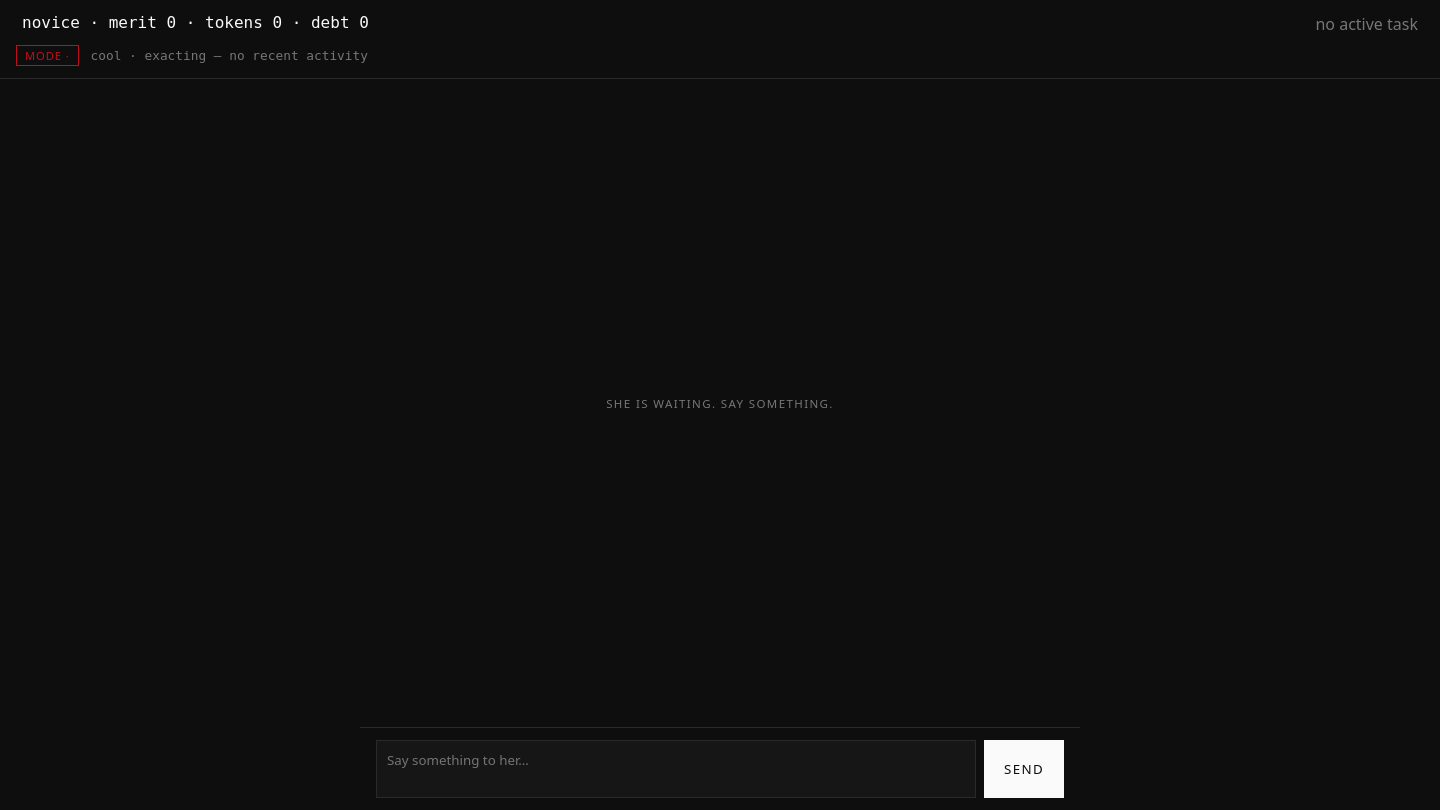
Test: online: shows the dossier and sends a message
expect the text "cool · exacting — no recent activity" is shown: met, box [91, 48, 368, 63]
Type "what now?" into the text box with placeholder "Say something to her…" at (676, 769), box [376, 740, 976, 798]
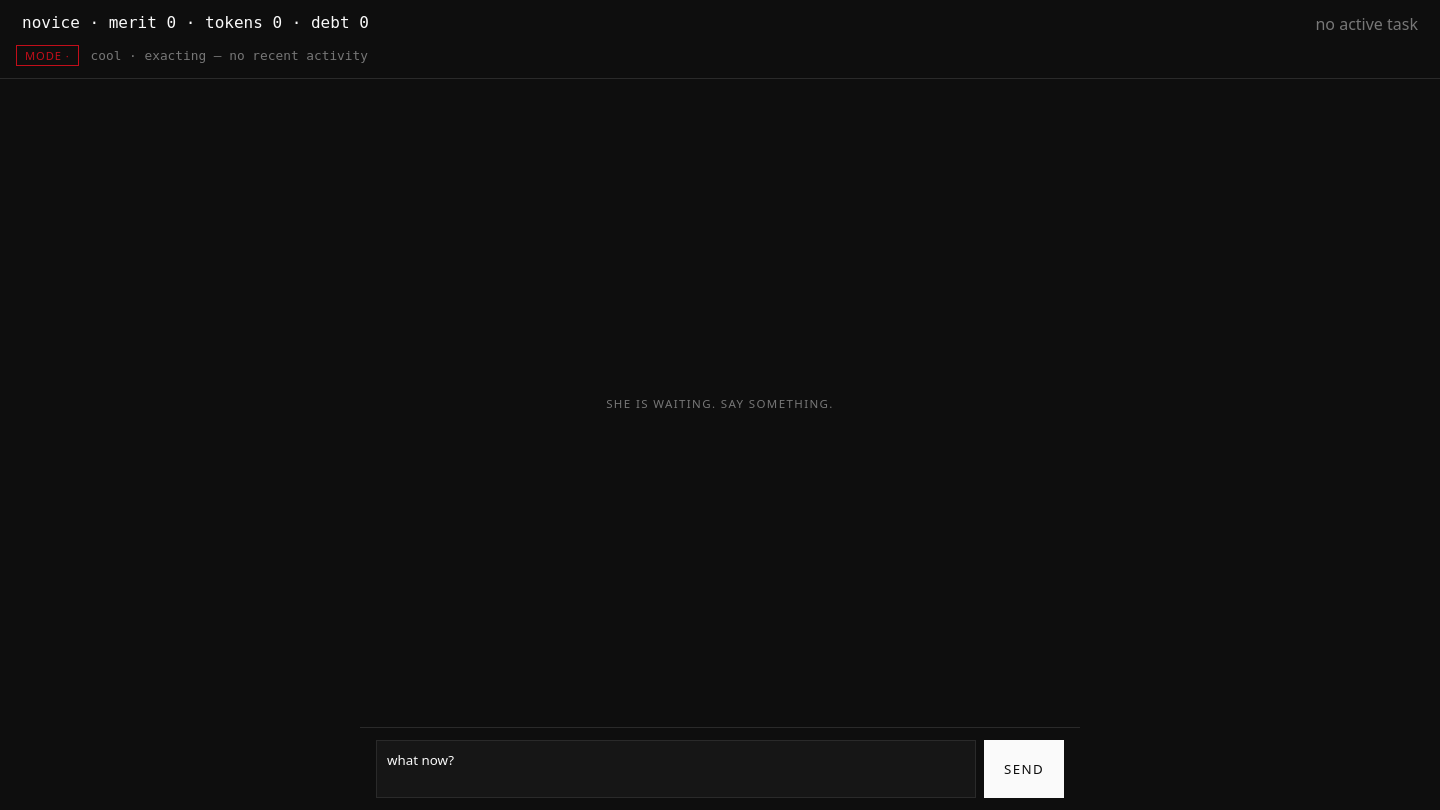
Click the button "Send" at (1024, 769), box [984, 740, 1064, 798]
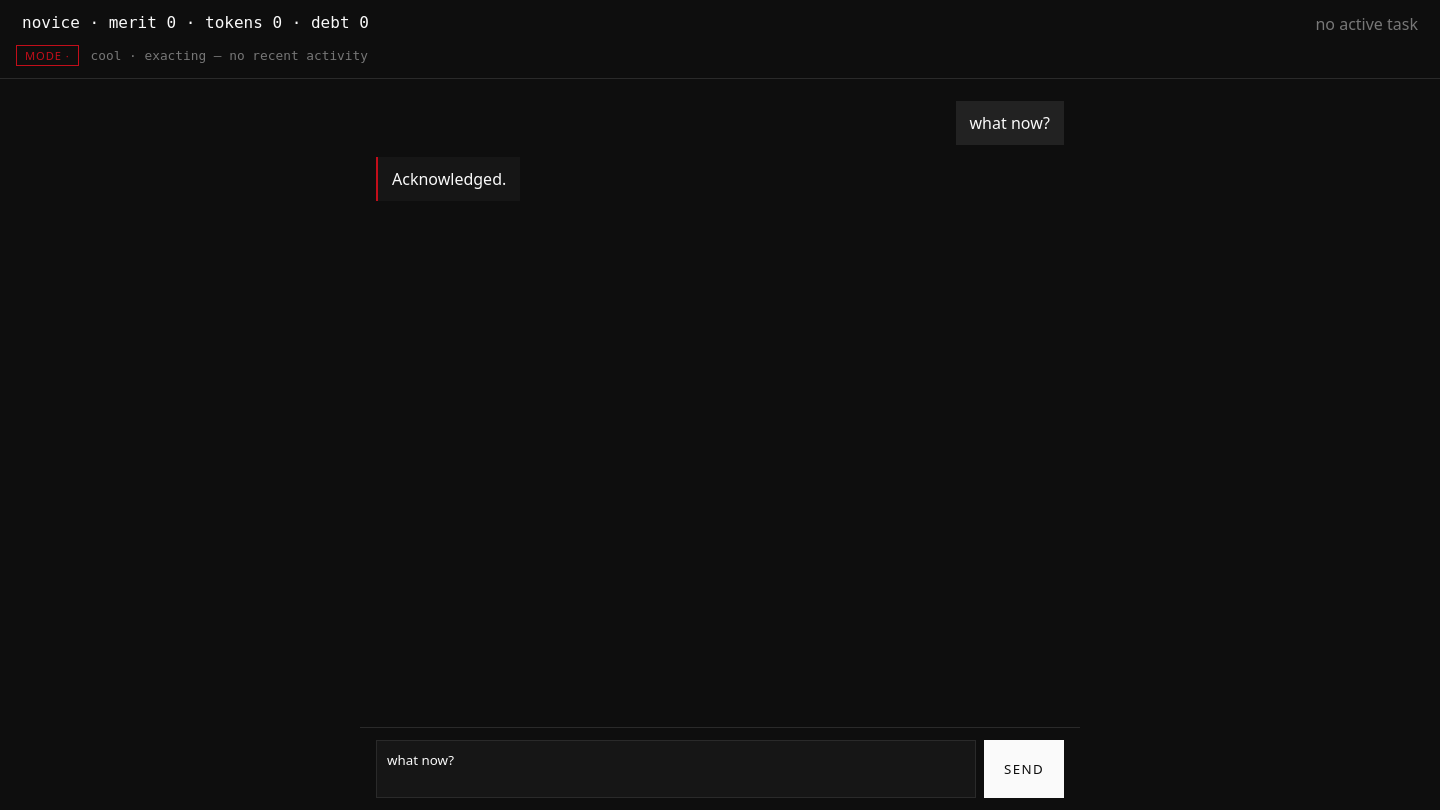
expect the text "Acknowledged." is shown: met, box [376, 157, 520, 201]
